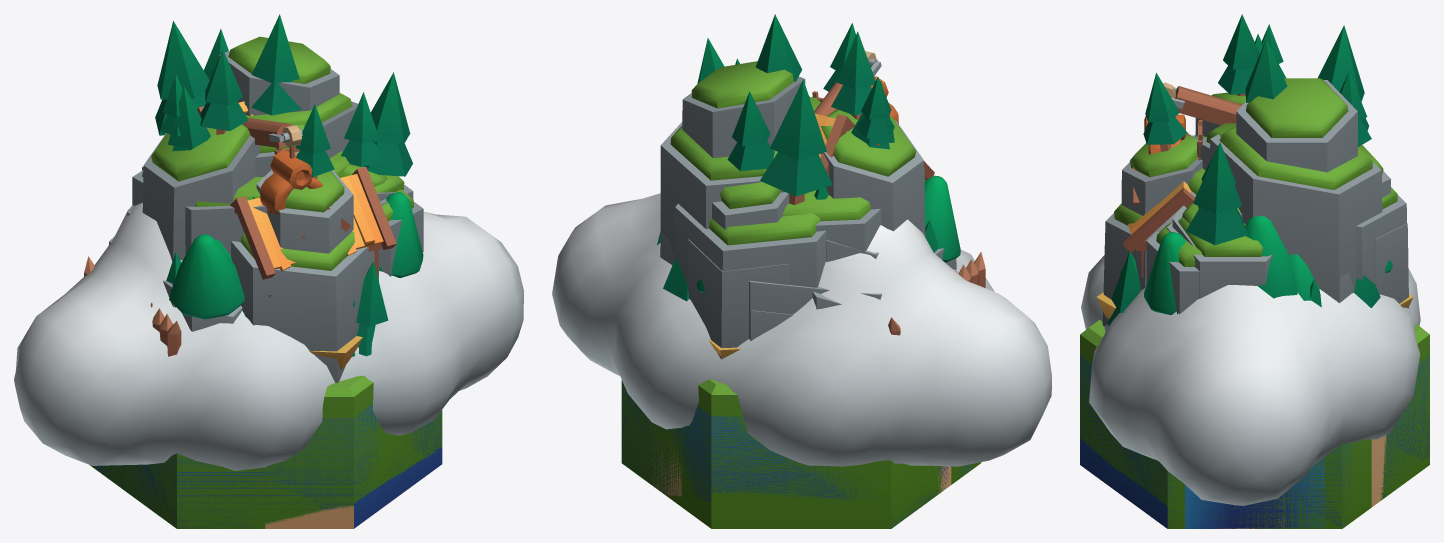
The model's file is garden.glb.
The picture shows the model from 3 angles, left to right: view 1: azimuth 30°, elevation 25°; view 2: azimuth 150°, elevation 25°; view 3: azimuth 270°, elevation 25°; orthographic projection. The views are drawn at different scales.
Parts seen in each view (by area): view 1: cloud_big, mountain_C_grass_trees, hex_grass, mountain_A_grass_trees, hex_water, hex_river_A, mountain_B_grass, trees_B_large, building_watermill_yellow, building_lumbermill_top_yellow, hex_coast_A, trees_A_large (+1 smaller); view 2: cloud_big, mountain_C_grass_trees, hex_grass, mountain_B_grass, mountain_A_grass_trees, hex_water, hex_coast_A, building_mine_yellow, hex_river_A, trees_B_large, building_lumbermill_top_yellow, hex_road_B (+3 smaller); view 3: cloud_big, mountain_B_grass, mountain_C_grass_trees, hex_grass, hex_river_A, mountain_A_grass_trees, hex_water, hex_road_B, trees_B_large, hex_coast_A, trees_B_medium, building_mine_yellow (+4 smaller).
Boxes of the visible parts, box(x1,y1,x2,y2) form: cloud_big: box(14, 202, 523, 470); mountain_C_grass_trees: box(142, 29, 395, 382); hex_grass: box(90, 375, 442, 528); mountain_A_grass_trees: box(132, 14, 423, 276); hex_water: box(92, 404, 442, 528); hex_river_A: box(92, 376, 441, 528); mountain_B_grass: box(109, 36, 413, 306); trees_B_large: box(169, 192, 423, 319); building_watermill_yellow: box(230, 167, 396, 296); building_lumbermill_top_yellow: box(197, 101, 322, 215); hex_coast_A: box(251, 447, 442, 528); trees_A_large: box(166, 252, 388, 356); cloud_big: box(552, 193, 1051, 466); mountain_C_grass_trees: box(675, 23, 956, 287); hex_grass: box(621, 380, 981, 528); mountain_B_grass: box(660, 61, 945, 339); mountain_A_grass_trees: box(661, 14, 924, 340); hex_water: box(621, 382, 980, 527); hex_coast_A: box(664, 379, 891, 528); building_mine_yellow: box(688, 239, 878, 359); hex_river_A: box(622, 379, 980, 515); trees_B_large: box(924, 175, 960, 262); building_lumbermill_top_yellow: box(814, 51, 898, 176); hex_road_B: box(622, 380, 894, 503); cloud_big: box(1081, 255, 1420, 505); mountain_B_grass: box(1167, 78, 1382, 302); mountain_C_grass_trees: box(1102, 14, 1406, 326); hex_grass: box(1080, 320, 1429, 528); hex_river_A: box(1080, 322, 1429, 528); mountain_A_grass_trees: box(1146, 25, 1368, 314); hex_water: box(1080, 355, 1429, 528); hex_road_B: box(1090, 321, 1429, 528); trees_B_large: box(1120, 232, 1319, 314); hex_coast_A: box(1080, 328, 1429, 528); trees_B_medium: box(1245, 216, 1392, 298); building_mine_yellow: box(1375, 223, 1408, 308).
Size of the model in its own units: 3.61 by 3.18 by 2.31.
1 material, 1 textured.
